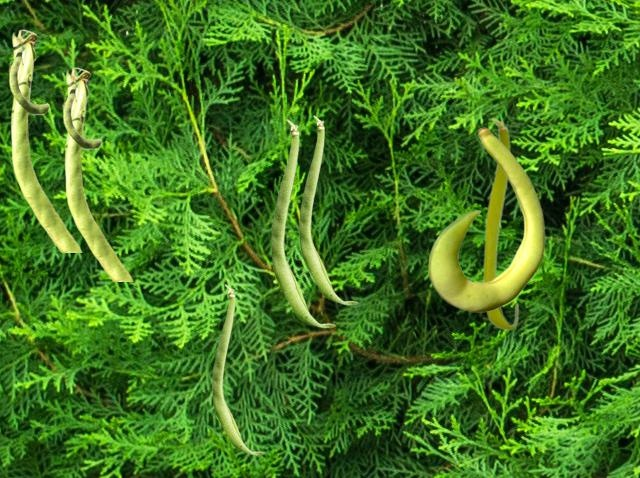french_bean: (428, 127, 544, 311), (8, 29, 81, 251), (62, 67, 132, 280), (271, 119, 335, 327), (299, 115, 357, 304), (212, 284, 264, 454), (482, 117, 518, 330)
